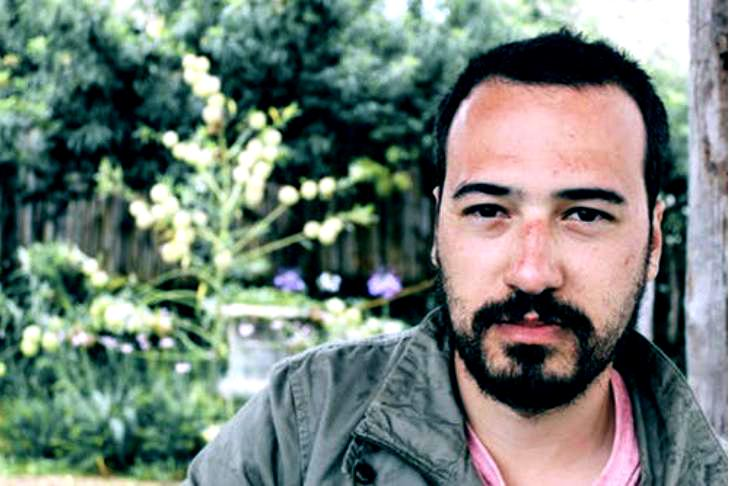face: (436, 87, 649, 390)
